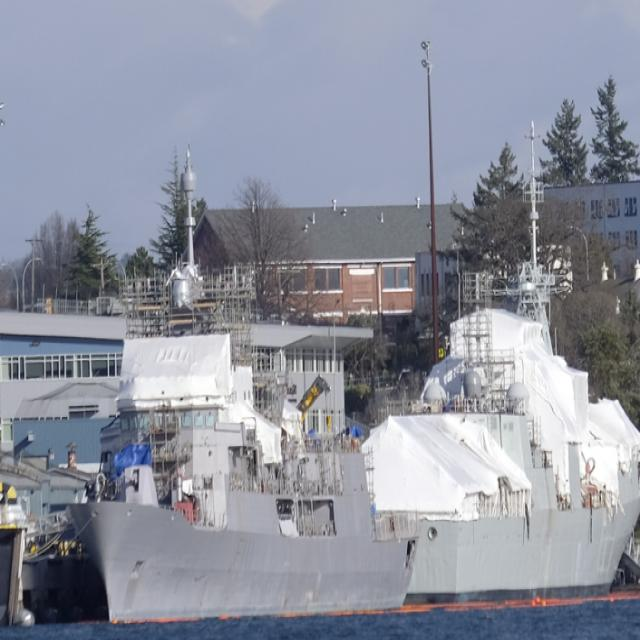Fragata: (16, 122, 422, 634)
